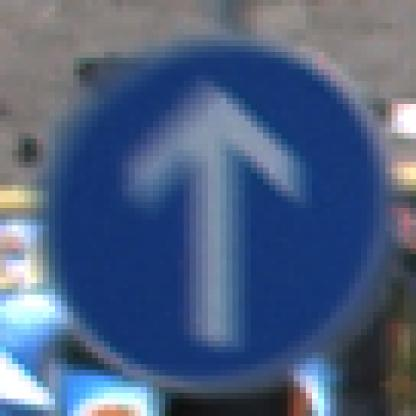AheadOnly: (38, 36, 380, 382)
